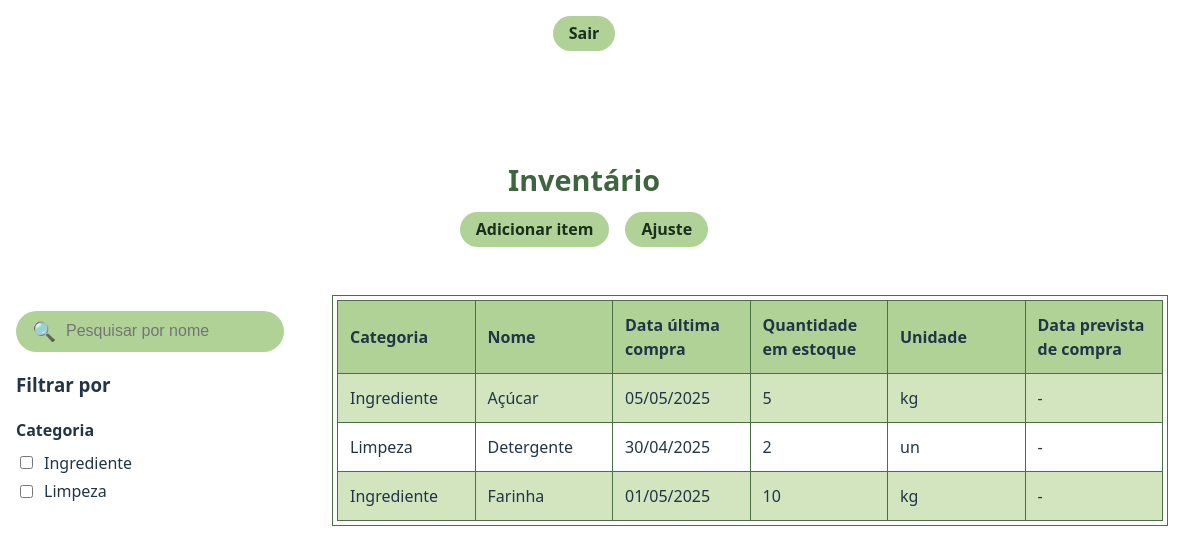
Test: Inventory Component › filtra itens por busca
The image size is (1185, 543).
Type "far" into the field with placeholder "Pesquisar por nome". click: (166,331)
box: [64, 321, 268, 341]
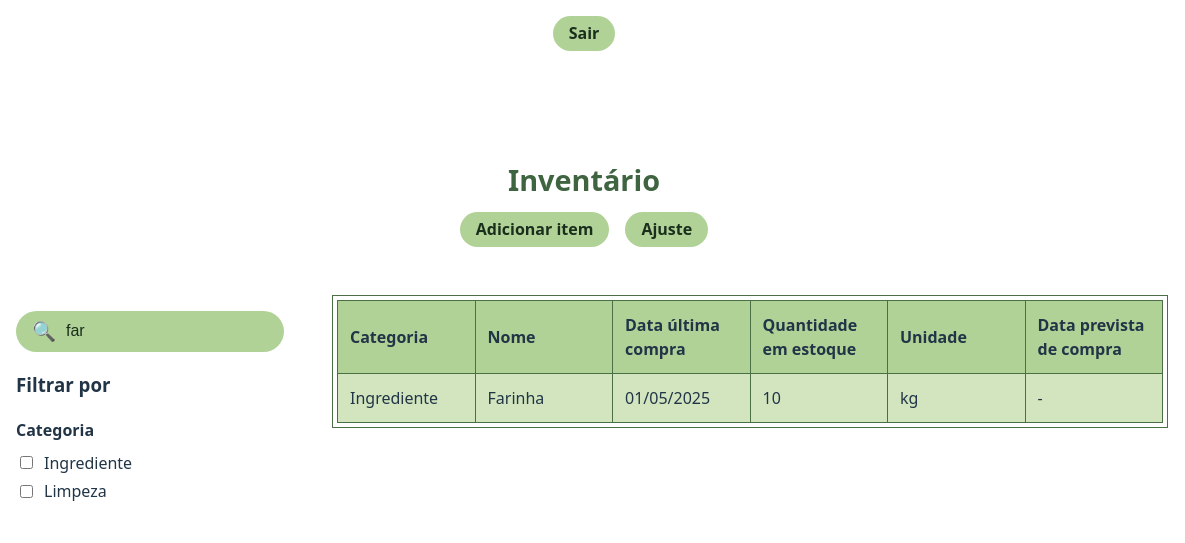
Now the text "Farinha" is shown, box [475, 373, 612, 422]
Now the text "Açúcar" is gone
Now the text "Detergente" is gone
